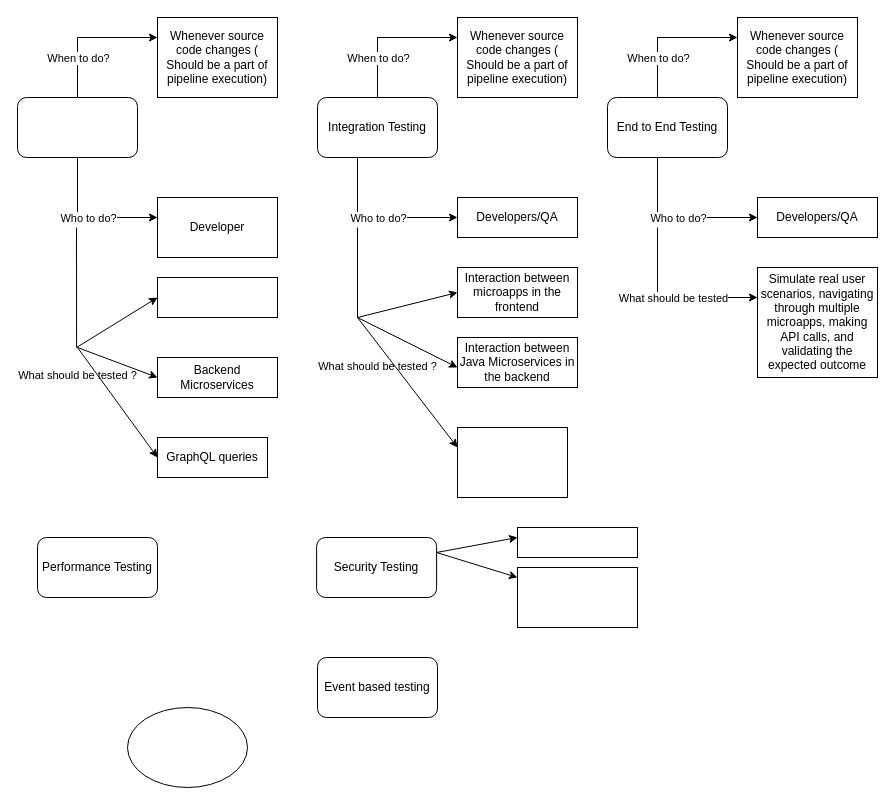
This 895x805 diagram has some shape labels left out. The box of each missing label's shape, as (x1, y1, x2, y2) in pixels:
Authorization, Authentication: (516, 526, 638, 558)
Front End MicroApps: (156, 276, 278, 318)
GraphQL layer in connecting the frontend and backend: (456, 426, 568, 498)
Open Ended Questions: (126, 706, 248, 788)
Unit Testing: (16, 96, 138, 158)
Vulnerability, Penetration, Session validation: (516, 566, 638, 628)
